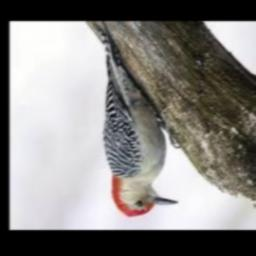Woodpecker: (89, 22, 178, 217)
